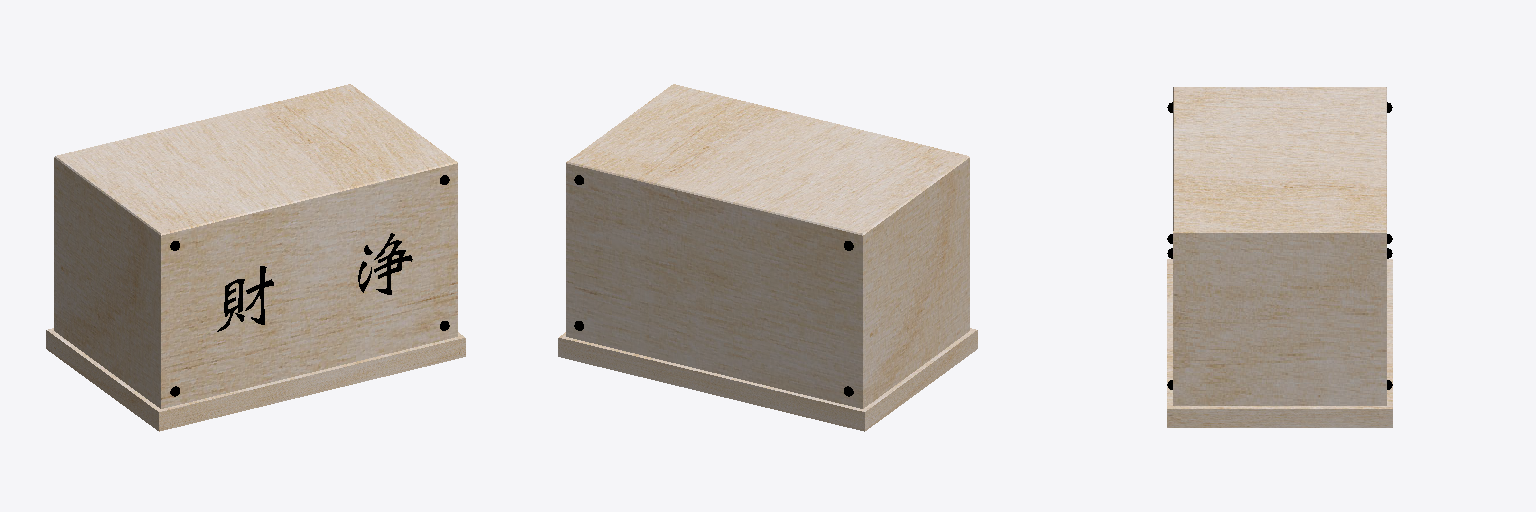
3 views of the same model, side by side, from view 1: azimuth 30°, elevation 25°; view 2: azimuth 150°, elevation 25°; view 3: azimuth 270°, elevation 25° (orthographic).
Parts seen in each view (by area): view 1: 立方体_立方体.001, Curve.001; view 2: 立方体_立方体.001; view 3: 立方体_立方体.001.
Part boxes in pixels (left/top/right/bottom): 立方体_立方体.001: left=46, top=84, right=465, bottom=431; Curve.001: left=217, top=233, right=412, bottom=331; 立方体_立方体.001: left=558, top=84, right=977, bottom=431; 立方体_立方体.001: left=1167, top=87, right=1392, bottom=427.
Bounding box in the file's own units: 3.3 × 2 × 2.1.
6 materials, 1 textured.